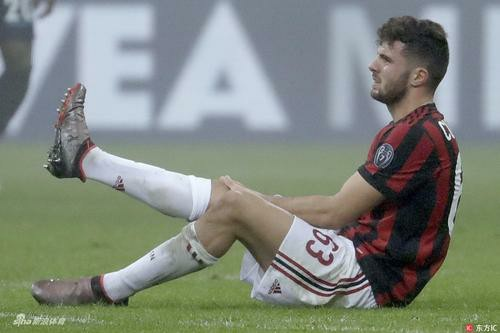fall: (19, 19, 477, 309)
